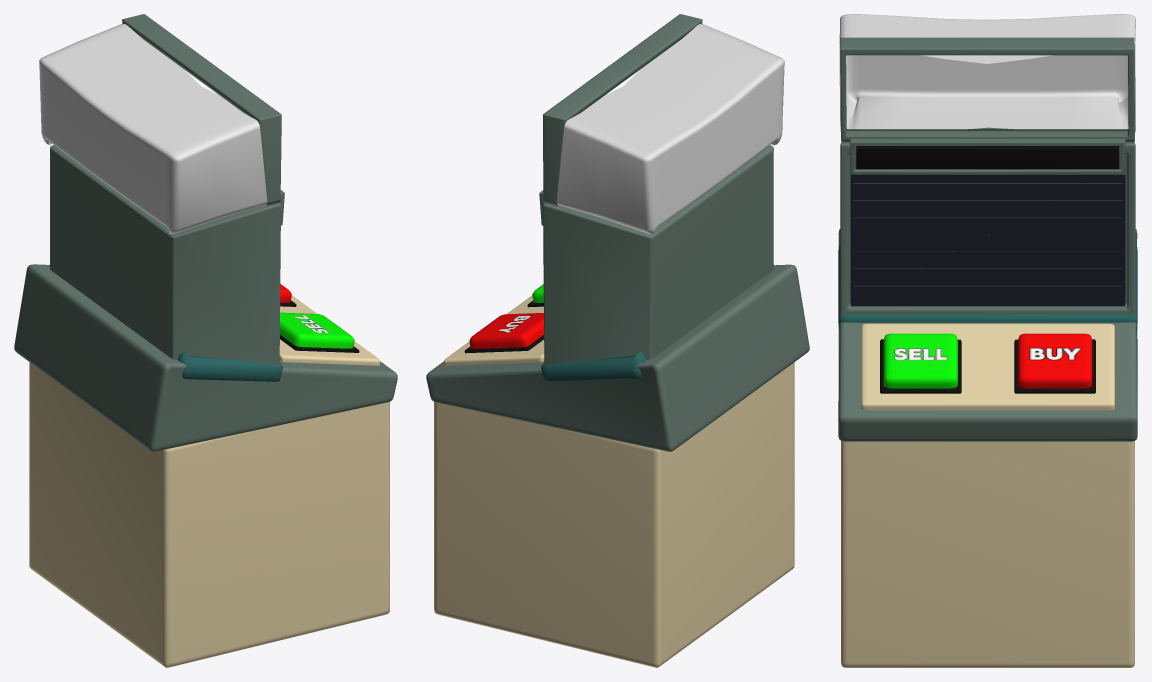
Rendered from ShapeKeyedMachine.fbx.
3 views of the same model, side by side, from view 1: azimuth 30°, elevation 25°; view 2: azimuth 150°, elevation 25°; view 3: azimuth 270°, elevation 25° (orthographic). The views are drawn at different scales.
Parts seen in each view (by area): view 1: Machine, Sell Button; view 2: Machine, Buy Button; view 3: Machine, Screen, PointScreen, Sell Button, Buy Button.
Part boxes in pixels (left/top/right/bottom): Machine: left=14, top=14, right=397, bottom=667; Sell Button: left=280, top=312, right=354, bottom=348; Machine: left=426, top=14, right=809, bottom=667; Buy Button: left=469, top=313, right=543, bottom=348; Machine: left=838, top=14, right=1137, bottom=667; Screen: left=851, top=175, right=1124, bottom=306; PointScreen: left=850, top=138, right=1125, bottom=174; Sell Button: left=883, top=333, right=957, bottom=388; Buy Button: left=1018, top=333, right=1092, bottom=388.
Size of the model in its own units: 1.02 by 2.07 by 1.
